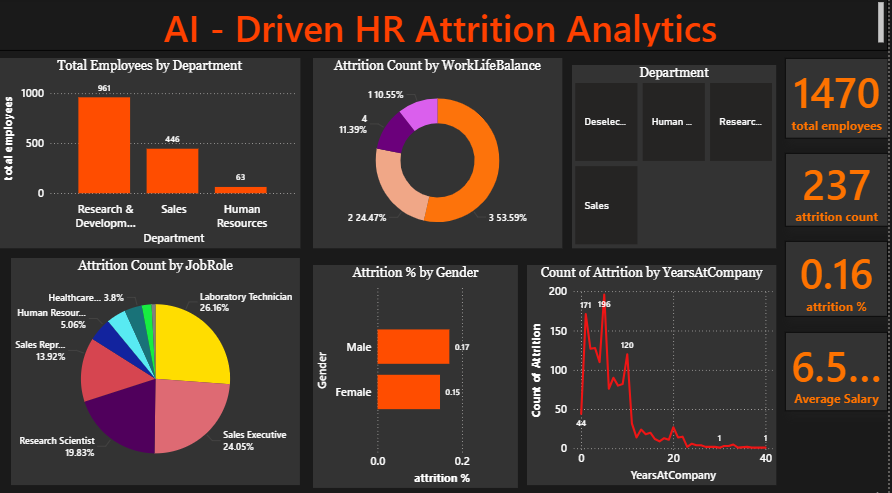

This screenshot's page, from the dashboard's own definition file:
{"tool":"powerbi","page":{"name":"Page 1","canvas":[1280,720],"ordinal":0},"visuals":[{"type":"card","fields":{"Values":["HR-Employee-Attriti.attrition %"]},"box":[1131.2,360,148.8,110],"z":0},{"type":"card","fields":{"Values":["HR-Employee-Attriti.attrition count"]},"box":[1131.2,223.8,148.8,106.2],"z":1000},{"type":"card","fields":{"Values":["HR-Employee-Attriti.total employees"]},"box":[1131.2,86.2,148.8,116.2],"z":2000},{"type":"columnChart","title":"Total Employees by Department","fields":{"Category":["HR-Employee-Attriti.Department"],"Y":["HR-Employee-Attriti.total employees"]},"box":[0,86.2,433.8,273.8],"z":3000},{"type":"textbox","box":[0,0,1280.2,76.3],"z":4000},{"type":"pieChart","fields":{"Category":["HR-Employee-Attriti.Department"],"Y":["Count(HR-Employee-Attriti.Attrition)"]},"box":[452.5,86.2,365,273.8],"z":5000},{"type":"card","fields":{"Values":["HR-Employee-Attriti.Average Salary"]},"box":[1131.2,488.8,148.8,112.5],"z":6000},{"type":"donutChart","fields":{"Y":["Count(HR-Employee-Attriti.Attrition)"],"Category":["HR-Employee-Attriti.JobRole"]},"box":[0,384.3,414.3,321.4],"z":7000},{"type":"barChart","title":"Attrition % by Gender","fields":{"Category":["HR-Employee-Attriti.Gender"],"Y":["HR-Employee-Attriti.attrition %"]},"box":[434.3,384.3,295.7,321.4],"z":8000},{"type":"lineChart","fields":{"Category":["HR-Employee-Attriti.YearsAtCompany"],"Y":["CountNonNull(HR-Employee-Attriti.Attrition)"]},"box":[760,384.3,358.6,317.1],"z":9000},{"type":"advancedSlicerVisual","fields":{"Values":["HR-Employee-Attriti.Department"]},"box":[825.1,96.5,293.8,263.5],"z":10000}]}

Visuals, with their boxes in screenshot pixels (x1, y1, x2, y2), scaled from the page's 1280x720 canvas onto the 892x493 screenshot:
card - HR-Employee-Attriti.attrition %: (x1=788, y1=246, x2=891, y2=322)
card - HR-Employee-Attriti.attrition count: (x1=788, y1=153, x2=891, y2=226)
card - HR-Employee-Attriti.total employees: (x1=788, y1=59, x2=891, y2=139)
"Total Employees by Department" columnChart: (x1=0, y1=59, x2=302, y2=246)
textbox: (x1=0, y1=0, x2=891, y2=52)
pieChart - HR-Employee-Attriti.Department x Count(HR-Employee-Attriti.Attrition): (x1=315, y1=59, x2=570, y2=246)
card - HR-Employee-Attriti.Average Salary: (x1=788, y1=335, x2=891, y2=412)
donutChart - Count(HR-Employee-Attriti.Attrition) x HR-Employee-Attriti.JobRole: (x1=0, y1=263, x2=289, y2=483)
"Attrition % by Gender" barChart: (x1=303, y1=263, x2=509, y2=483)
lineChart - HR-Employee-Attriti.YearsAtCompany x CountNonNull(HR-Employee-Attriti.Attrition): (x1=530, y1=263, x2=780, y2=480)
advancedSlicerVisual - HR-Employee-Attriti.Department: (x1=575, y1=66, x2=780, y2=246)
